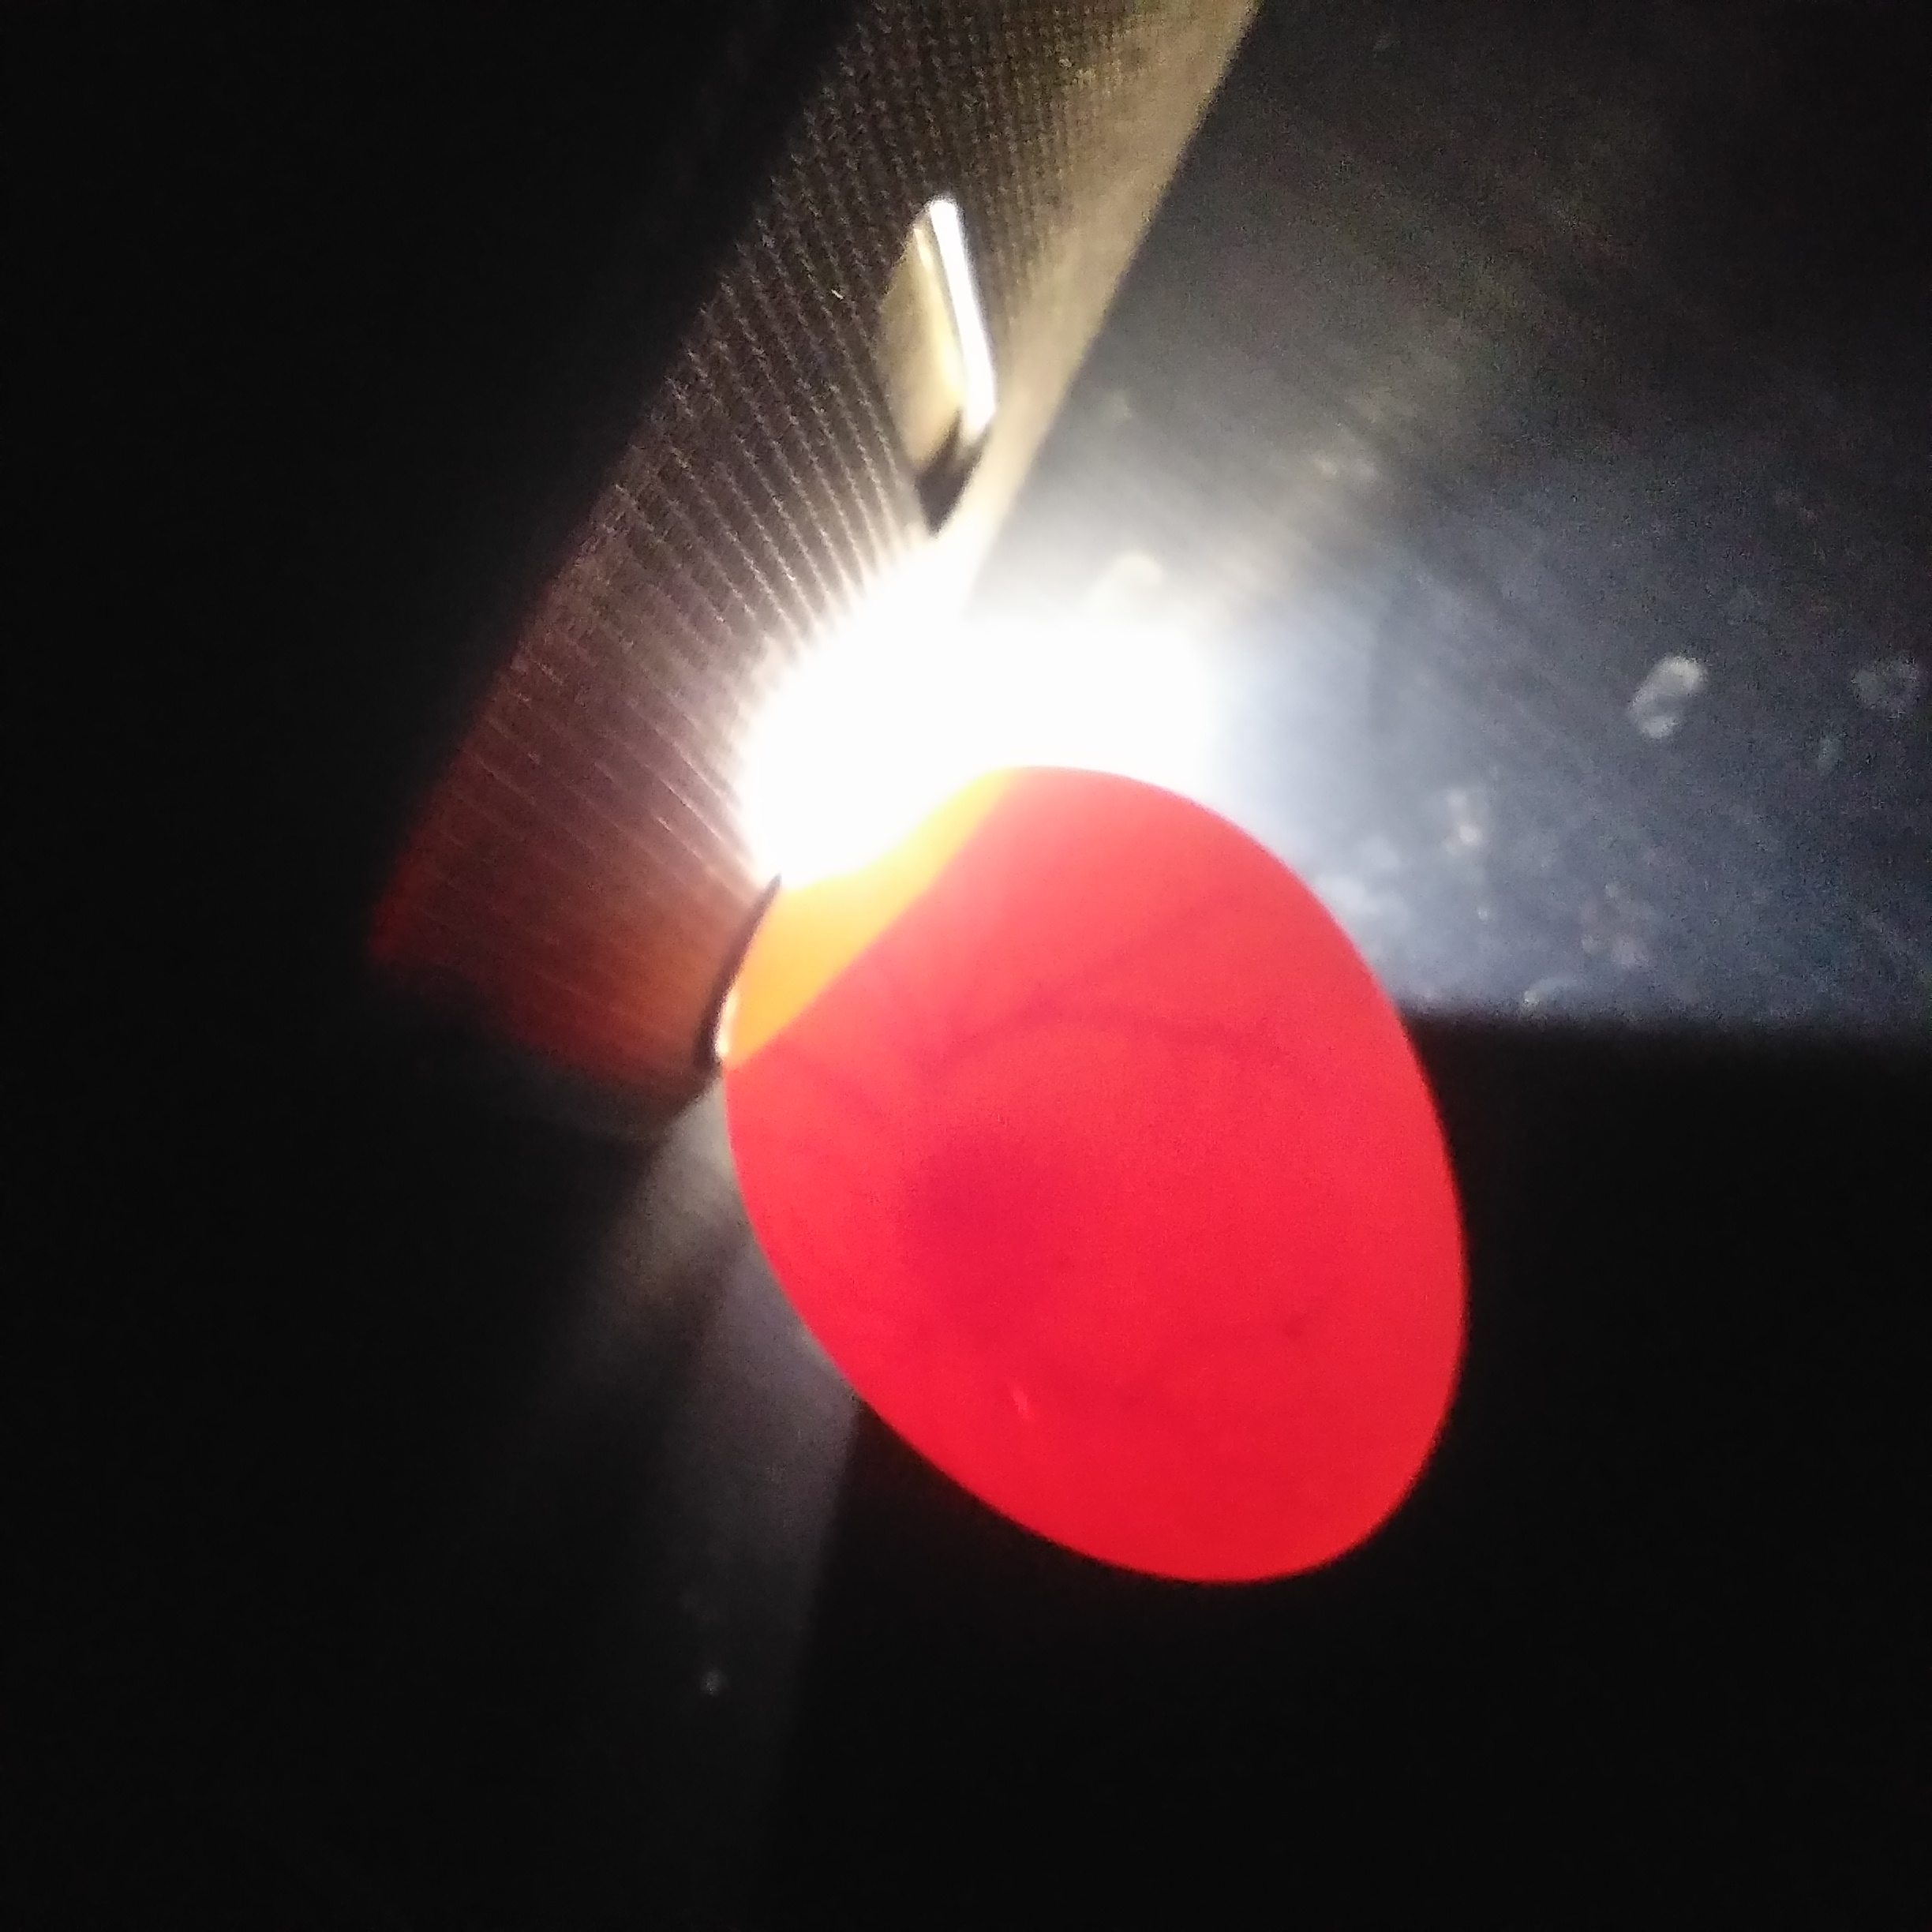bloodcell: (1092, 1191, 1361, 1520), (966, 945, 1302, 1069)
embryo: (885, 1109, 1044, 1338)
